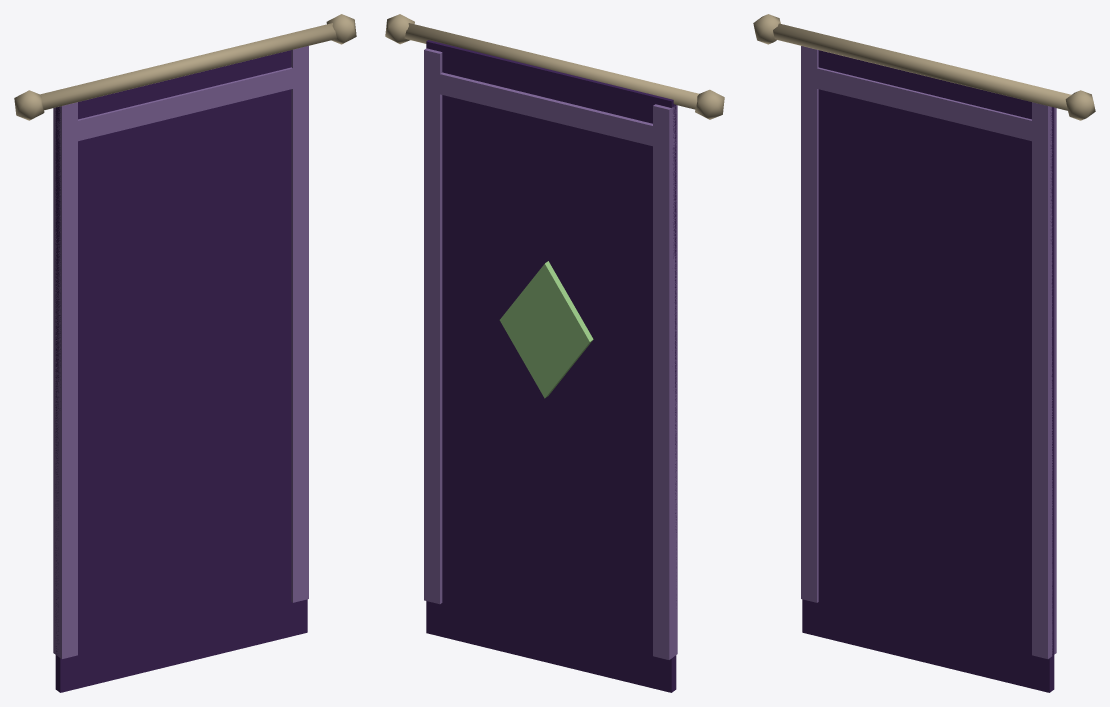
File: necromantic_sign_v0.glb
The picture shows the model from 3 angles, left to right: view 1: azimuth 30°, elevation 25°; view 2: azimuth 150°, elevation 25°; view 3: azimuth 330°, elevation 25°; orthographic projection.
Visible parts, largest first — view 1: necromantic_sign_v0; view 2: necromantic_sign_v0; view 3: necromantic_sign_v0.
Part boxes in pixels (box(x1,y1,x2,y2)): necromantic_sign_v0: box(14, 14, 356, 692); necromantic_sign_v0: box(385, 14, 724, 692); necromantic_sign_v0: box(753, 14, 1095, 692).
Bounding box in the file's own units: 1.04 × 1.8 × 0.0933.
